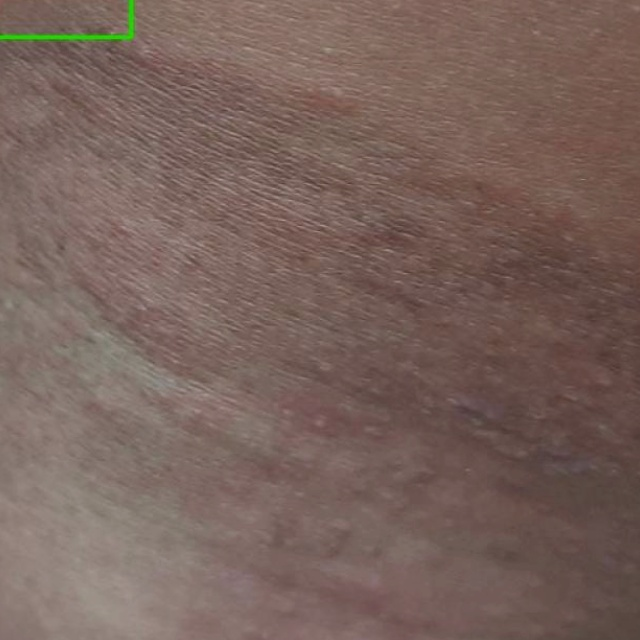Tinea Corporis: (0, 0, 131, 37)
